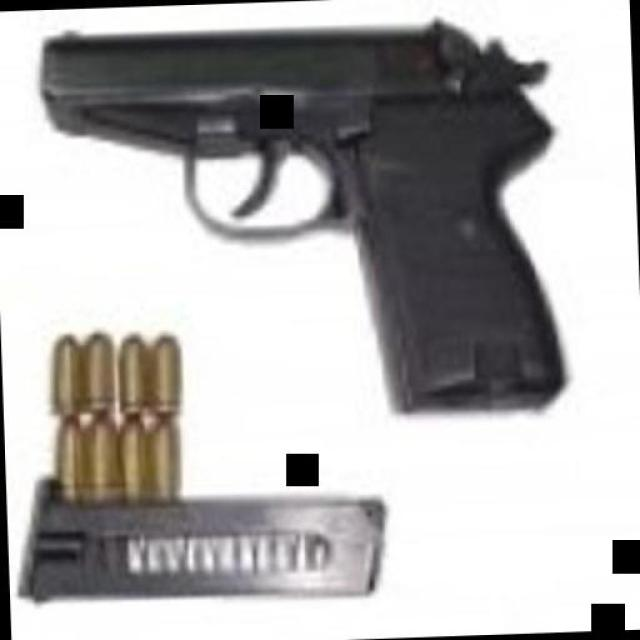gun: (40, 12, 574, 430)
